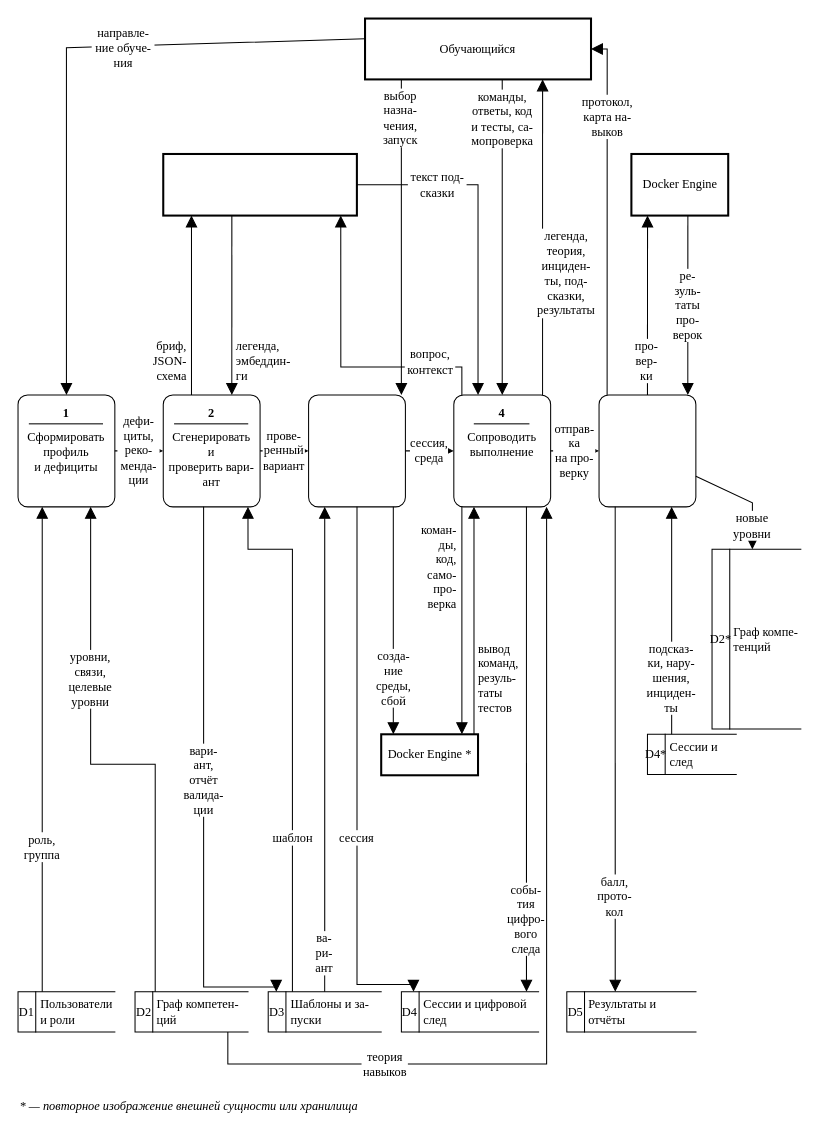
Some shapes in this 819 by 1137 pixel diagram are drawn without their labels. The centre of each missing label's shape, as x and y in pixels:
3 За­пу­стить учеб­ную сессию: the point at 356,450
5 Про­ве­рить ре­зуль­тат, об­но­вить про­филь: the point at 647,450
LLM-про­вай­дер: the point at 259,184
